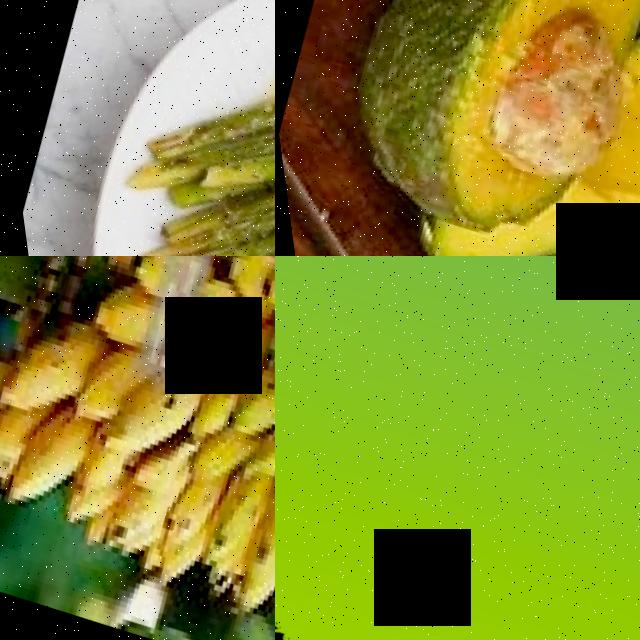apple: (275, 256, 640, 640)
avocado: (284, 0, 640, 256), (540, 0, 640, 256)
banana: (0, 256, 275, 640)
